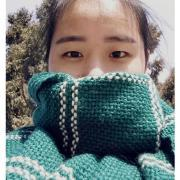WRONG: (44, 26, 149, 131)
